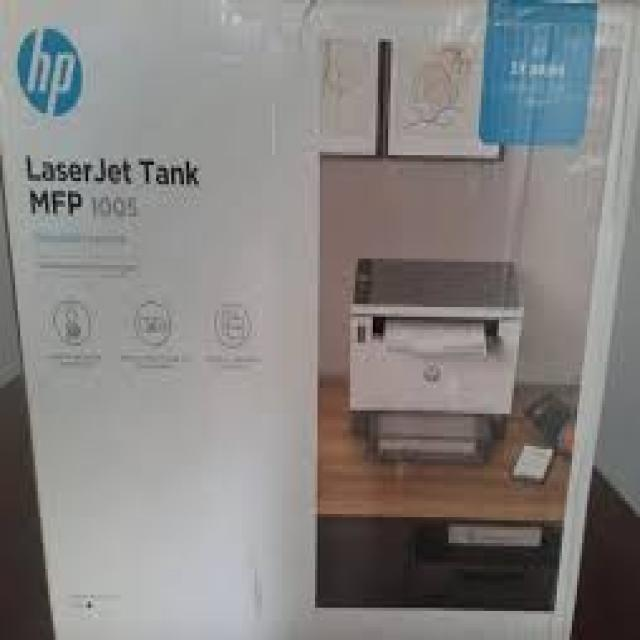printer: (345, 255, 524, 466)
